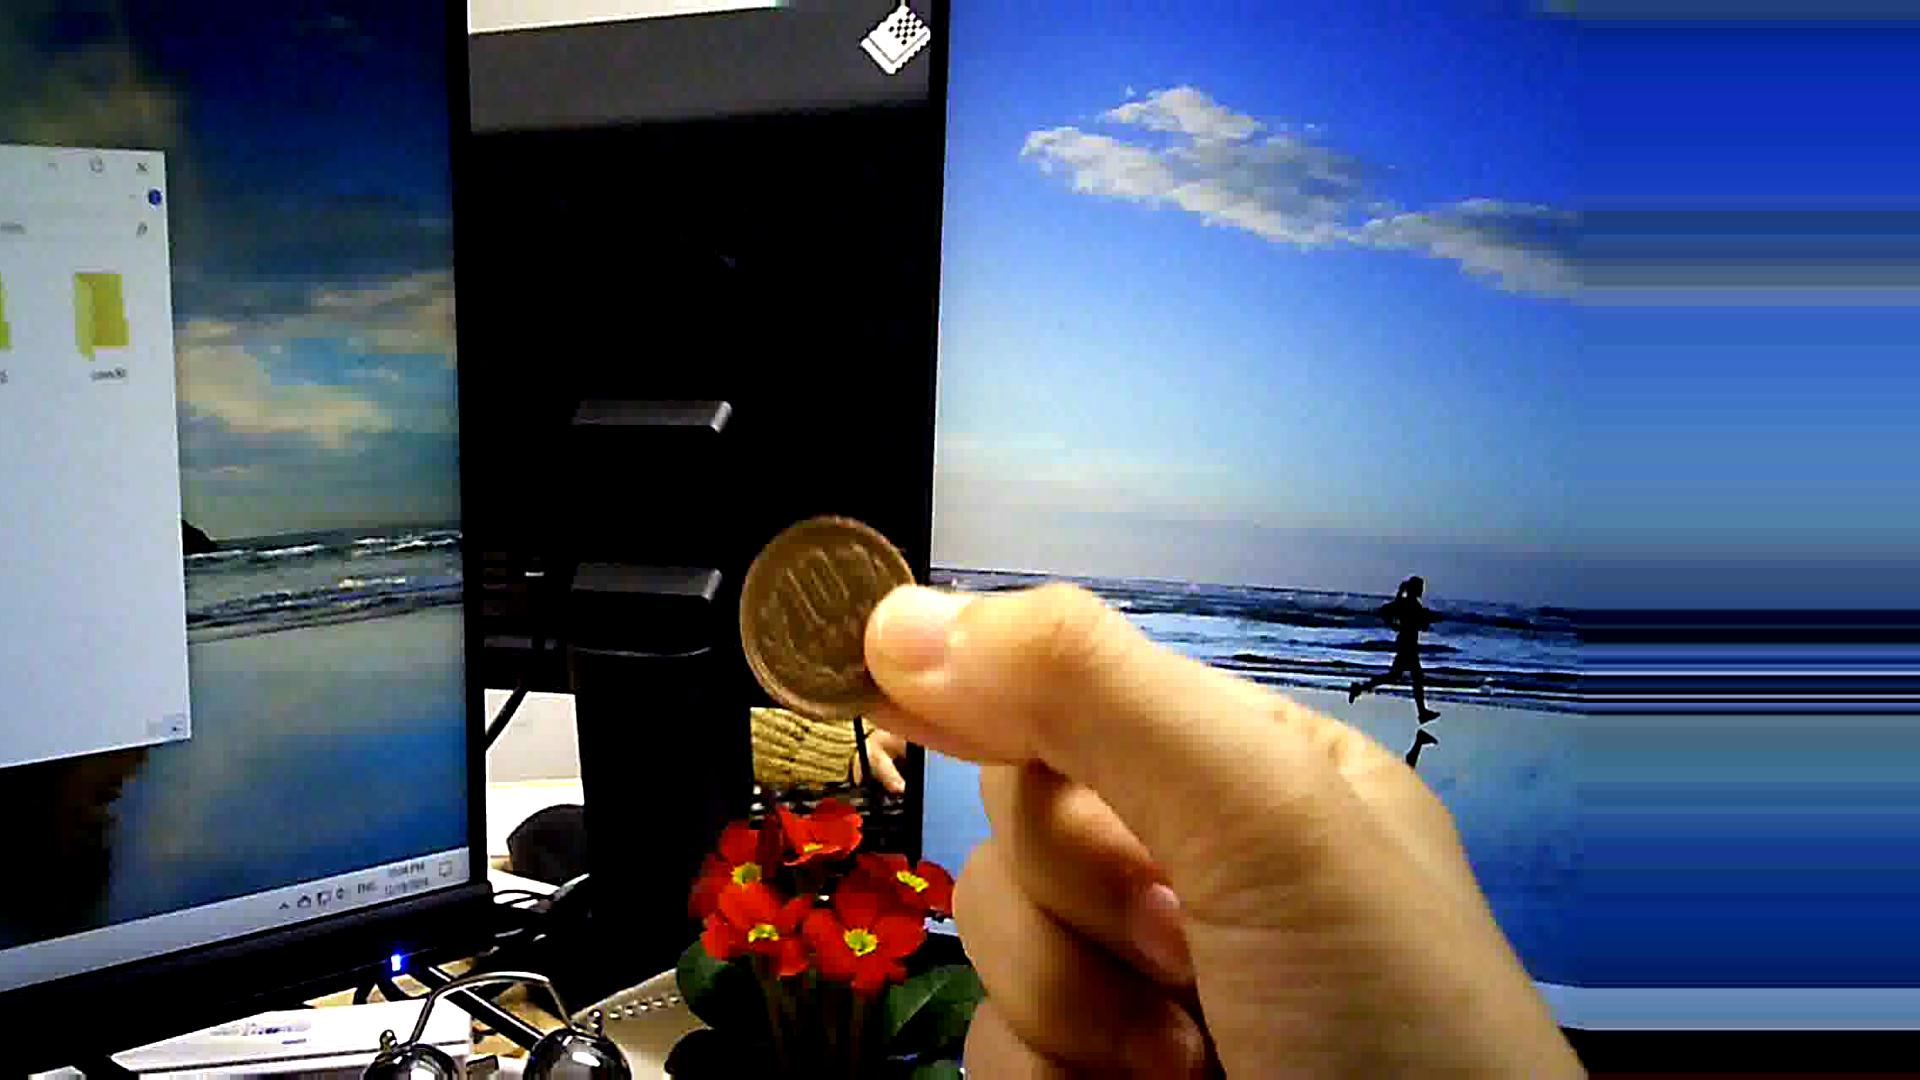10 Yen: (738, 520, 916, 728)
